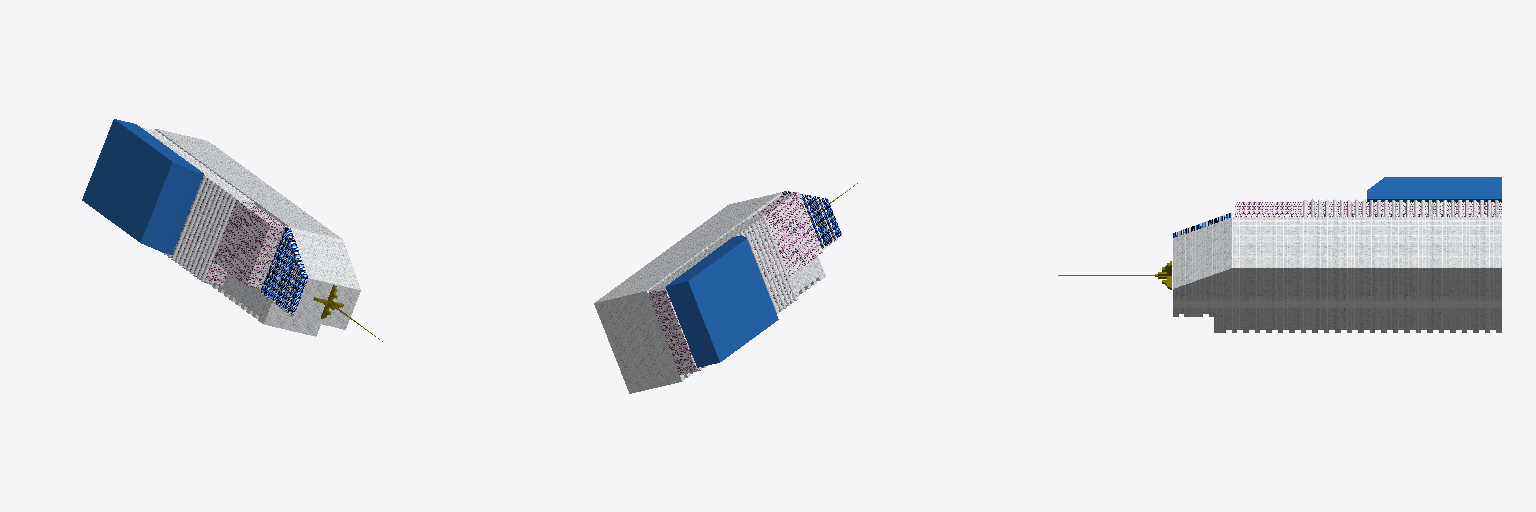
The picture shows the model from 3 angles: view 1: azimuth 30°, elevation 25°; view 2: azimuth 150°, elevation 25°; view 3: azimuth 270°, elevation 25°; orthographic projection.
Parts seen in each view (by area): view 1: Main_Bldg_, Slant_Glas, Step_Wall_, Aero_Frame; view 2: Main_Bldg_, Slant_Glas, Step_Wall_, Aero_Frame; view 3: Main_Bldg_, Slant_Glas, Step_Wall_.
Part boxes in pixels (bbox=[...]): Main_Bldg_: bbox=[155, 129, 360, 336]; Slant_Glas: bbox=[82, 119, 203, 254]; Step_Wall_: bbox=[168, 176, 284, 288]; Aero_Frame: bbox=[260, 226, 307, 314]; Main_Bldg_: bbox=[594, 192, 837, 393]; Slant_Glas: bbox=[666, 235, 778, 367]; Step_Wall_: bbox=[648, 192, 822, 374]; Aero_Frame: bbox=[782, 191, 841, 249]; Main_Bldg_: bbox=[1173, 217, 1501, 332]; Slant_Glas: bbox=[1367, 177, 1501, 201]; Step_Wall_: bbox=[1235, 202, 1501, 216].
Size of the model in its own units: 1682 by 1616 by 5118.
Materials: 5 (3 with a texture image).